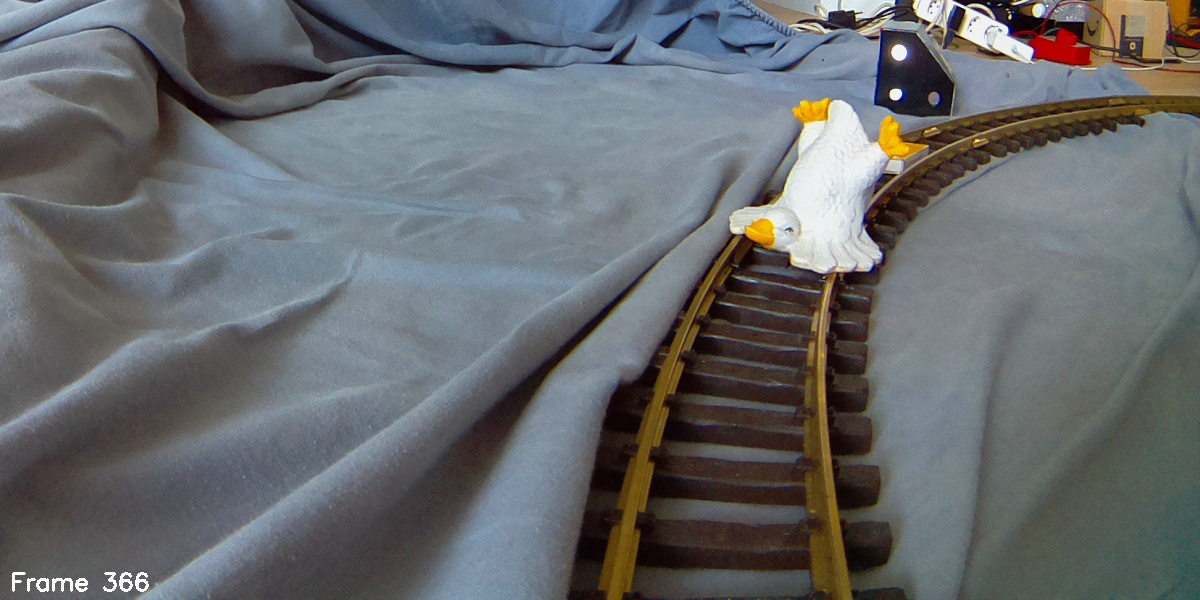Ente: (726, 96, 906, 284)
Fahrt: (873, 19, 957, 117)
